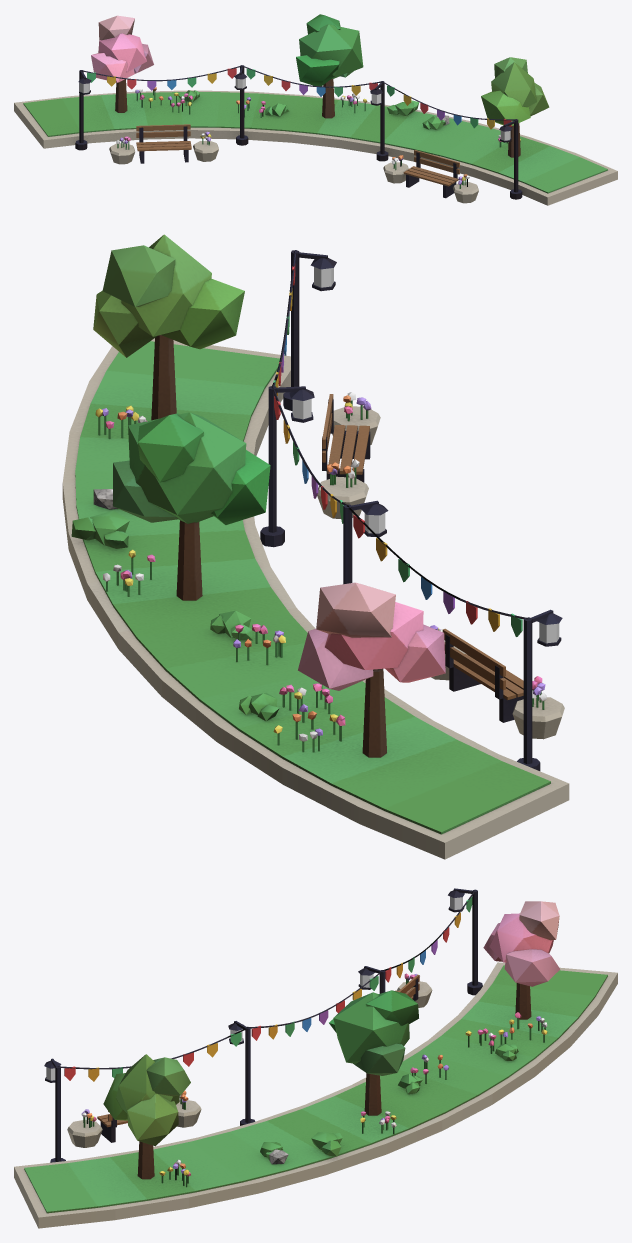
File: hub_garden.fbx
The picture shows the model from 3 angles, top to bottom: view 1: azimuth 30°, elevation 25°; view 2: azimuth 150°, elevation 25°; view 3: azimuth 270°, elevation 25°; orthographic projection. The views are drawn at different scales.
Visible parts, largest first — view 1: hub_garden_body, hub_garden_body_glow; view 2: hub_garden_body, hub_garden_body_glow; view 3: hub_garden_body, hub_garden_body_glow.
Part boxes in pixels (x1,y1,x2,y2): hub_garden_body: (14,14,617,205); hub_garden_body_glow: (80,78,510,140); hub_garden_body: (62,234,569,859); hub_garden_body_glow: (292,267,559,643); hub_garden_body: (14,888,617,1228); hub_garden_body_glow: (46,896,462,1080).
Bounding box in the file's own units: 3734 × 933 × 3734.
2 materials, 1 textured.
